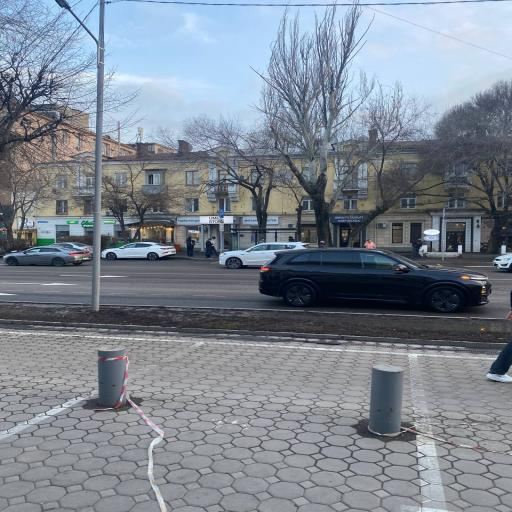bottle: (258, 248, 491, 314), (101, 242, 175, 260)
ramp: (0, 259, 511, 315)
shelf: (0, 327, 511, 512)
